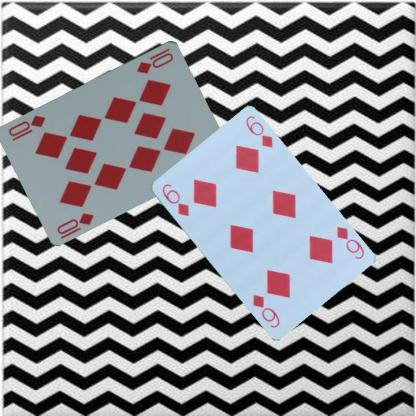10d: (54, 210, 96, 240), (134, 45, 175, 75)
6d: (334, 223, 366, 261), (159, 181, 190, 217)
